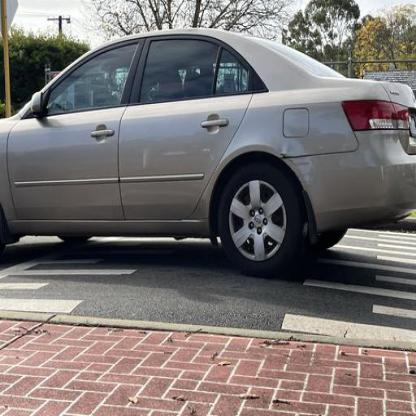Tire: (217, 164, 304, 275)
